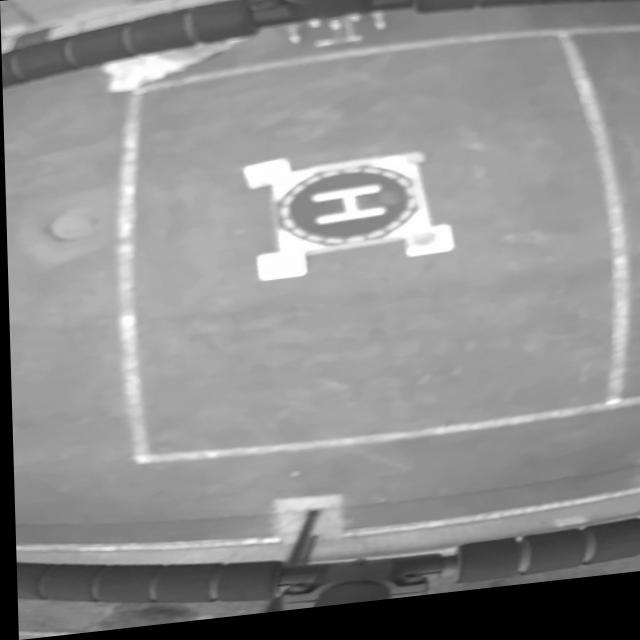Helipad: (309, 191, 388, 233)
